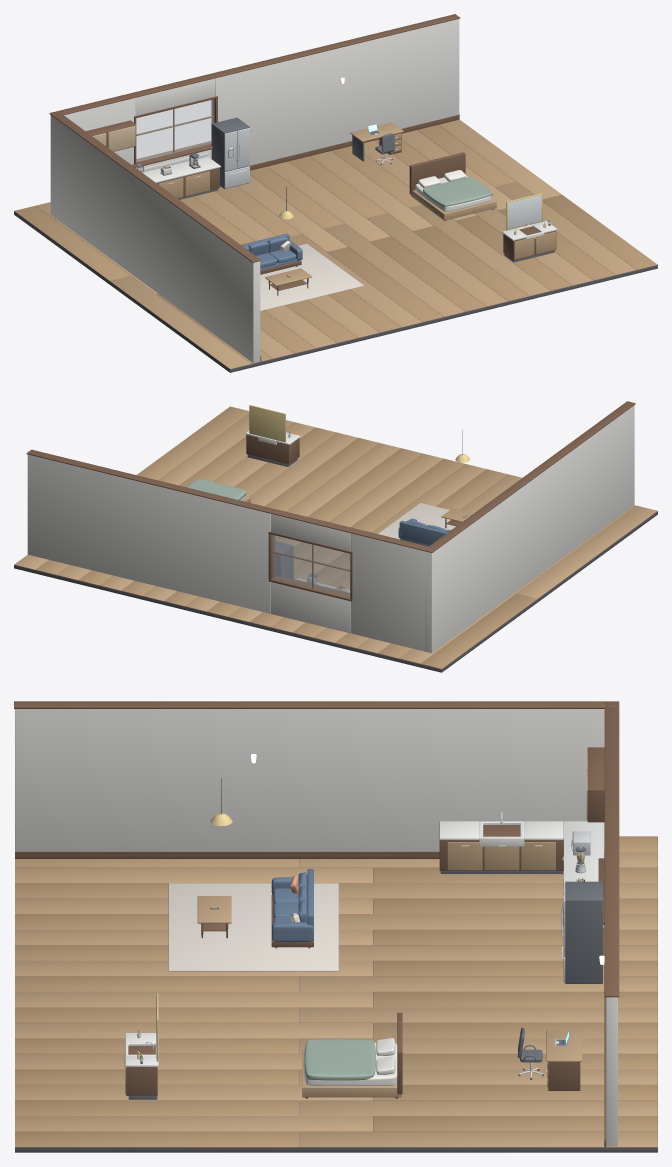
File: house.glb
The picture shows the model from 3 angles, top to bottom: view 1: azimuth 30°, elevation 25°; view 2: azimuth 150°, elevation 25°; view 3: azimuth 270°, elevation 25°; orthographic projection. The views are drawn at different scales.
Parts seen in each view (by area): view 1: House_Diorama, House_Bed, Bathroom_Vanity, Refrigerator, Kitchen_Counter, Sofa, Study_Desk, Living_Table; view 2: House_Diorama, Bathroom_Vanity, Sofa, House_Bed, Refrigerator; view 3: House_Diorama, Kitchen_Counter, House_Bed, Refrigerator, Sofa, Study_Desk, Bathroom_Vanity, Living_Table.
Part boxes in pixels (x1,y1,x2,y2): House_Diorama: (14,14,657,372); House_Bed: (409,152,496,220); Bathroom_Vanity: (502,193,557,262); Refrigerator: (211,117,249,188); Kitchen_Counter: (142,153,220,199); Sofa: (241,233,302,274); Study_Desk: (350,122,403,164); Living_Table: (265,268,312,295); House_Diorama: (14,401,657,672); Bathroom_Vanity: (245,405,300,466); Sofa: (398,518,450,546); House_Bed: (186,479,250,502); Refrigerator: (275,541,293,578); House_Diorama: (14,701,657,1152); Kitchen_Counter: (439,812,604,955); House_Bed: (302,1012,402,1098); Refrigerator: (561,881,602,983); Sofa: (271,869,313,948); Study_Desk: (517,1028,582,1090); Bathroom_Vanity: (124,993,158,1099); Living_Table: (197,896,231,938).
Size of the model in its own units: 16.02 by 3.78 by 14.02.
